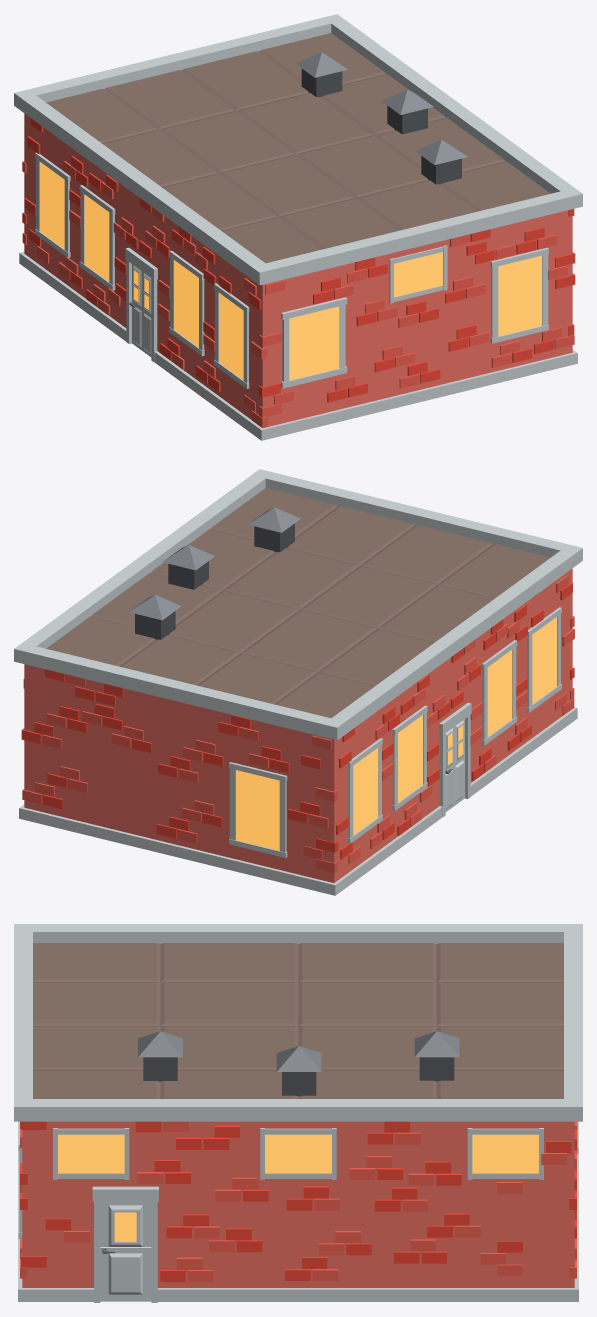
Rendered from SM_House_21_A.fbx.
The picture shows the model from 3 angles, top to bottom: view 1: azimuth 30°, elevation 25°; view 2: azimuth 150°, elevation 25°; view 3: azimuth 270°, elevation 25°; orthographic projection. The views are drawn at different scales.
Parts seen in each view (by area): view 1: SM_House_21_A_LOD0; view 2: SM_House_21_A_LOD0; view 3: SM_House_21_A_LOD0.
Boxes of the visible parts, <box> form: SM_House_21_A_LOD0: <box>14,14,582,440</box>; SM_House_21_A_LOD0: <box>14,469,582,895</box>; SM_House_21_A_LOD0: <box>14,924,582,1302</box>.
Bounding box in the file's own units: 879 × 1153 × 511.
Materials: 1 (1 with a texture image).
